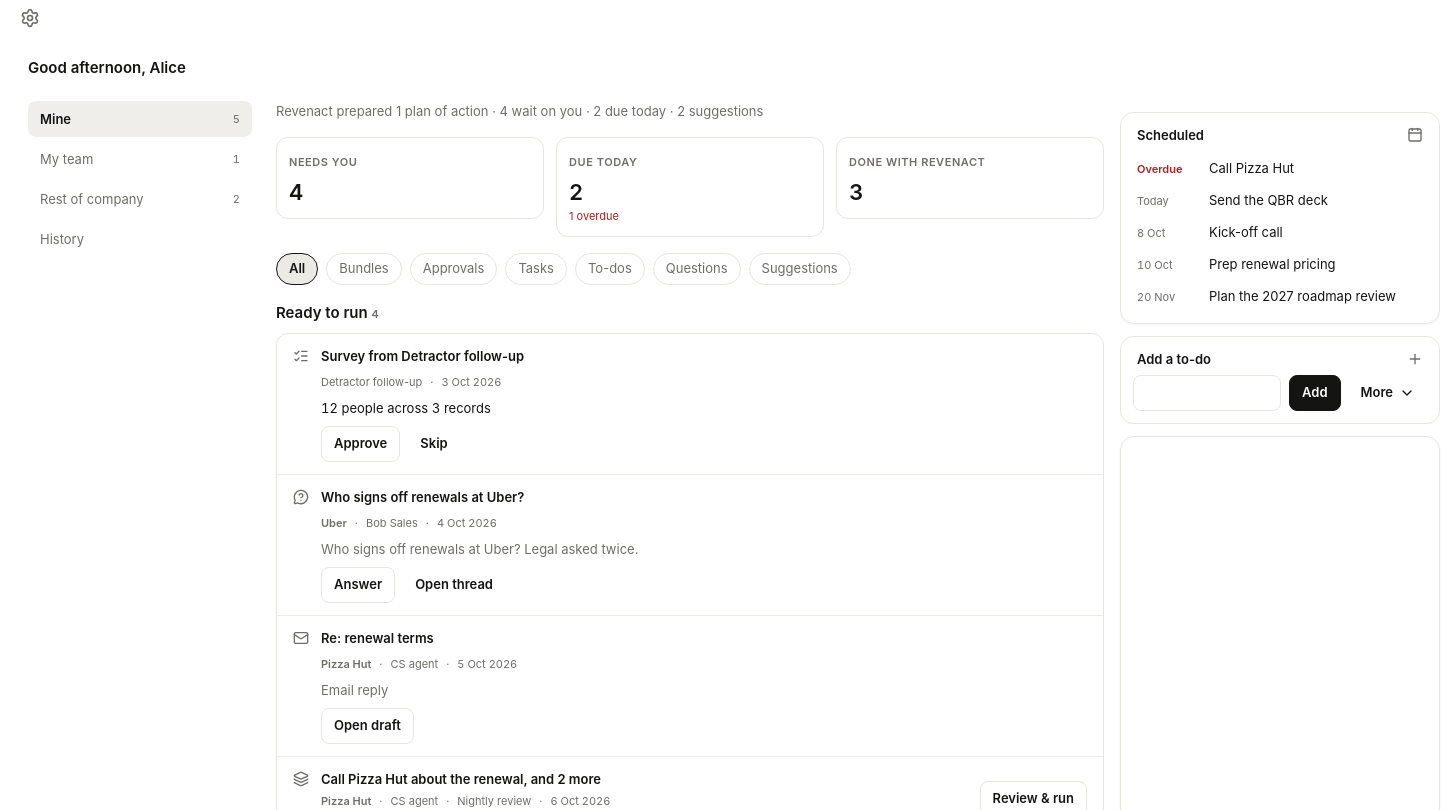
Scenario: Work inbox (spec §8.1) › shows the queues with counts, Mine open, and moves between queues in the URL
Expected: the link "History" is shown, [40,231,84,247]
Click the link "My team 1".
click(67, 159)  # box [40,151,240,167]
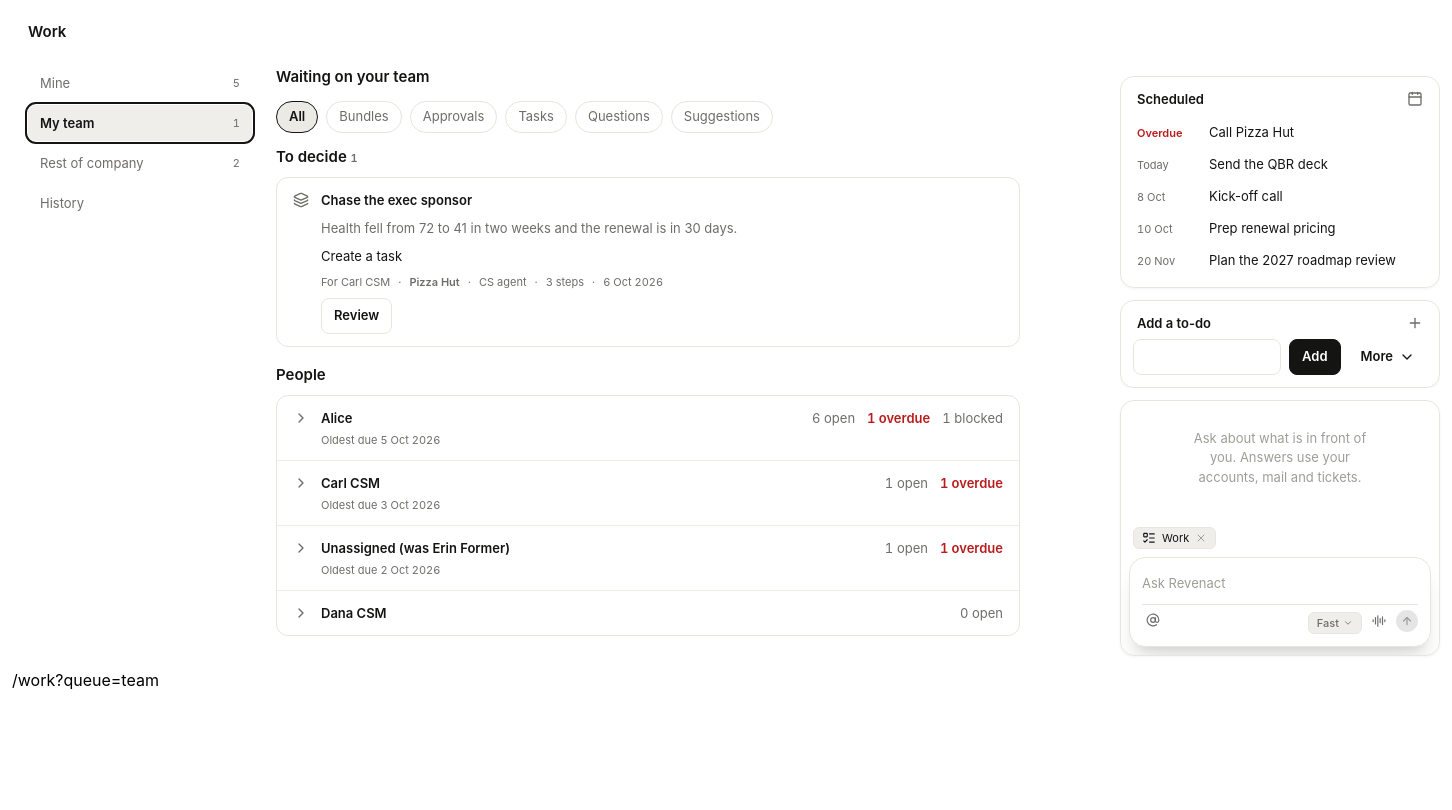
Expected: the text with test id "where" reads "/work?queue=team", [12,670,159,690]
Expected: the heading "Waiting on your team" is shown, [276,65,430,89]
